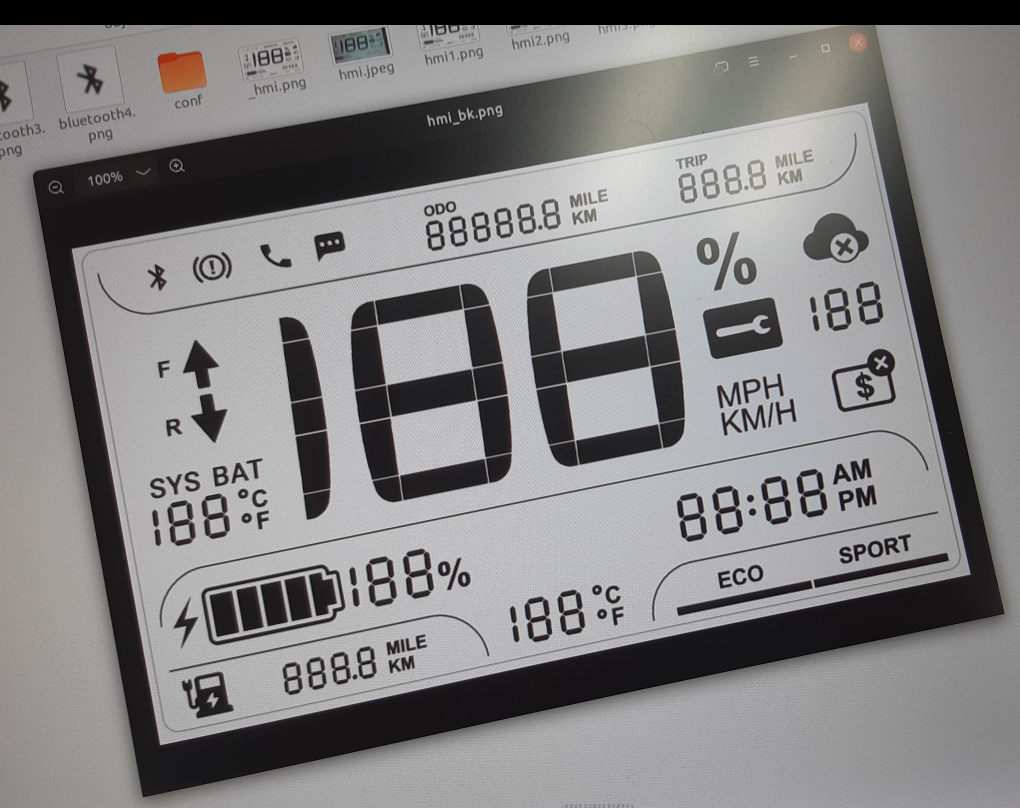bluetooth_on: (141, 258, 175, 296)
braking_on: (189, 249, 235, 286)
calling_on: (256, 240, 294, 271)
connection_lost: (799, 210, 872, 267)
error_code: (699, 296, 787, 361)
low_battery: (179, 670, 238, 721)
sms_on: (309, 228, 349, 266)
vin_id: (830, 345, 899, 416)
